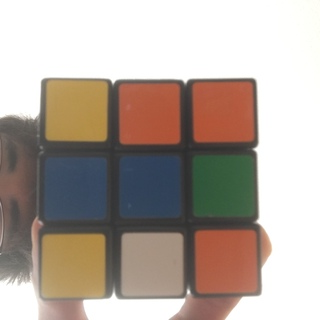face: (38, 79, 260, 296)
